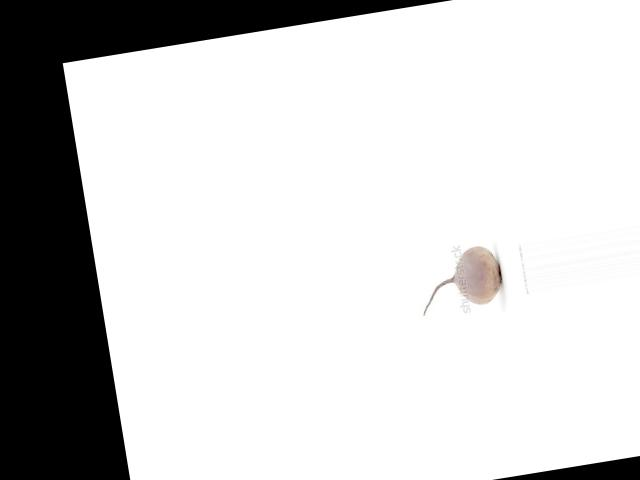beet: (413, 242, 505, 315)
